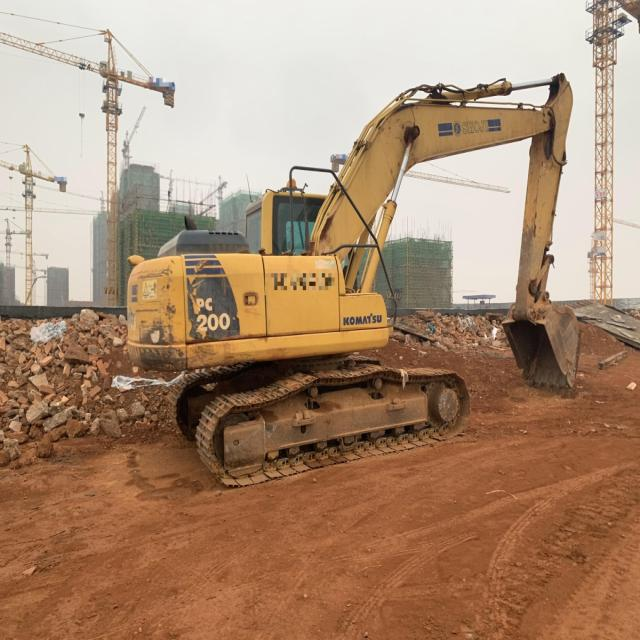crane: (0, 29, 175, 307), (585, 0, 640, 305), (0, 143, 68, 305), (330, 154, 511, 193), (0, 191, 103, 214), (121, 106, 146, 168), (0, 218, 25, 268), (160, 169, 199, 199), (199, 174, 228, 204), (10, 250, 48, 258)
excavator: (127, 72, 582, 486)
truck: (23, 275, 47, 305)
